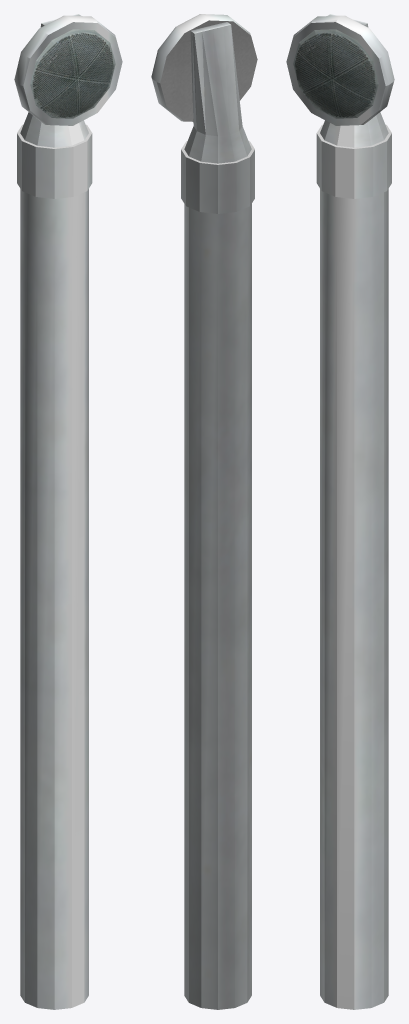
3 views of the same model, side by side, from view 1: azimuth 30°, elevation 25°; view 2: azimuth 210°, elevation 25°; view 3: azimuth 330°, elevation 25° (orthographic).
Parts seen in each view (by area): view 1: MainBuilding; view 2: MainBuilding; view 3: MainBuilding.
Part boxes in pixels (box(x1,y1,x2,y2)): MainBuilding: box(14, 14, 122, 1009); MainBuilding: box(151, 14, 257, 1009); MainBuilding: box(286, 14, 394, 1009).
Size of the model in its own units: 0.1029 by 0.9515 by 0.0716.
1 material, 1 textured.
